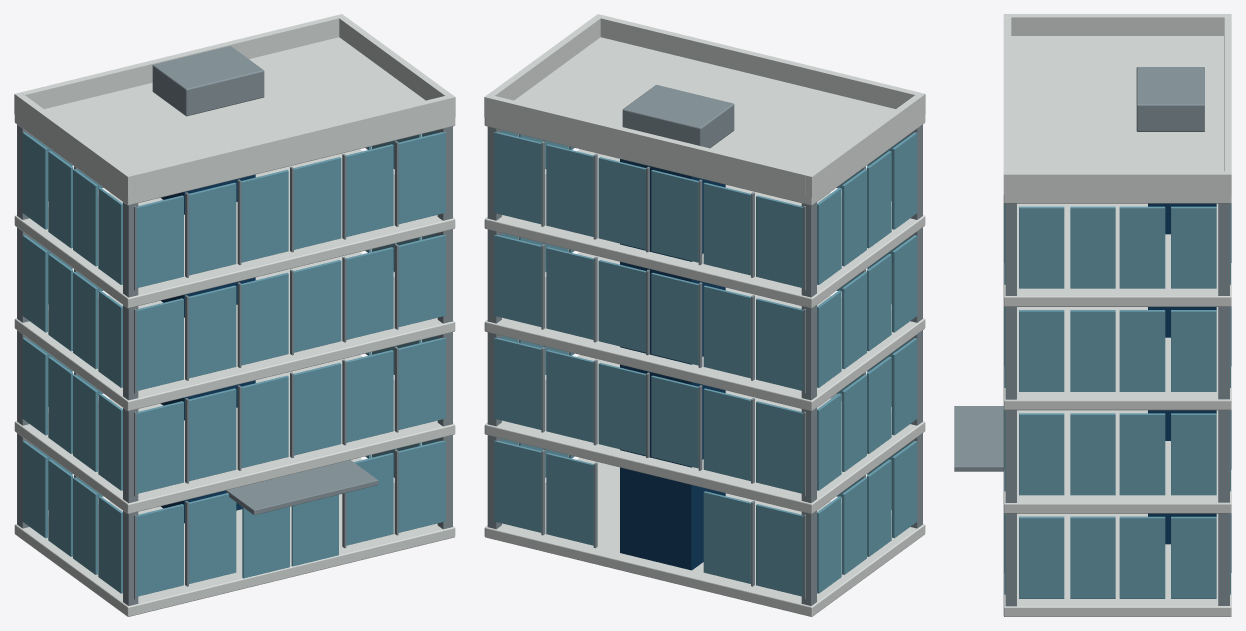
The model's file is edited.glb.
The picture shows the model from 3 angles, left to right: view 1: azimuth 30°, elevation 25°; view 2: azimuth 150°, elevation 25°; view 3: azimuth 270°, elevation 25°; orthographic projection.
Visible parts, largest first — view 1: FACADE_Storey.002, FACADE_Storey.003, FACADE_Storey, SLAB.004, FACADE_Storey.001, SLAB.002, SLAB.001, SLAB.003, SLAB, ROOF_Parapet.002, ROOF_PlantRoom, ROOF_Parapet.003 (+9 smaller); view 2: FACADE_Storey.002, FACADE_Storey.003, FACADE_Storey, FACADE_Storey.001, SLAB.004, SLAB, CORE, SLAB.003, SLAB.001, SLAB.002, ROOF_Parapet.003, ROOF_Parapet.002 (+6 smaller); view 3: SLAB.004, FACADE_Storey.001, FACADE_Storey.002, FACADE_Storey, FACADE_Storey.003, SLAB.001, SLAB.003, SLAB.002, SLAB, ROOF_Parapet.001, ROOF_Parapet, ROOF_PlantRoom (+6 smaller).
Boxes of the visible parts, bbox=[...] form: FACADE_Storey.002: bbox=[22, 336, 445, 496]; FACADE_Storey.003: bbox=[22, 233, 445, 393]; FACADE_Storey: bbox=[22, 130, 445, 290]; SLAB.004: bbox=[14, 37, 455, 205]; FACADE_Storey.001: bbox=[22, 439, 445, 599]; SLAB.002: bbox=[14, 252, 455, 411]; SLAB.001: bbox=[14, 355, 455, 513]; SLAB.003: bbox=[14, 149, 455, 308]; SLAB: bbox=[14, 457, 455, 616]; ROOF_Parapet.002: bbox=[131, 96, 448, 195]; ROOF_PlantRoom: bbox=[152, 46, 264, 116]; ROOF_Parapet.003: bbox=[21, 15, 339, 108]; FACADE_Storey.002: bbox=[494, 336, 917, 496]; FACADE_Storey.003: bbox=[494, 233, 917, 393]; FACADE_Storey: bbox=[494, 130, 917, 290]; FACADE_Storey.001: bbox=[494, 438, 917, 599]; SLAB.004: bbox=[484, 37, 925, 205]; SLAB: bbox=[484, 457, 925, 616]; CORE: bbox=[620, 159, 725, 570]; SLAB.003: bbox=[484, 149, 925, 308]; SLAB.001: bbox=[484, 355, 925, 513]; SLAB.002: bbox=[484, 252, 925, 411]; ROOF_Parapet.003: bbox=[491, 96, 808, 195]; ROOF_Parapet.002: bbox=[600, 15, 918, 108]; SLAB.004: bbox=[1003, 36, 1231, 203]; FACADE_Storey.001: bbox=[1003, 513, 1231, 598]; FACADE_Storey.002: bbox=[1003, 410, 1231, 495]; FACADE_Storey: bbox=[1003, 203, 1231, 288]; FACADE_Storey.003: bbox=[1003, 306, 1231, 391]; SLAB.001: bbox=[1003, 410, 1231, 513]; SLAB.003: bbox=[1003, 203, 1231, 306]; SLAB.002: bbox=[1003, 307, 1231, 410]; SLAB: bbox=[1003, 513, 1231, 616]; ROOF_Parapet.001: bbox=[1003, 171, 1231, 195]; ROOF_Parapet: bbox=[1003, 14, 1231, 35]; ROOF_PlantRoom: bbox=[1136, 67, 1204, 131].
Size of the model in its own units: 10 by 13.1 by 7.3.
